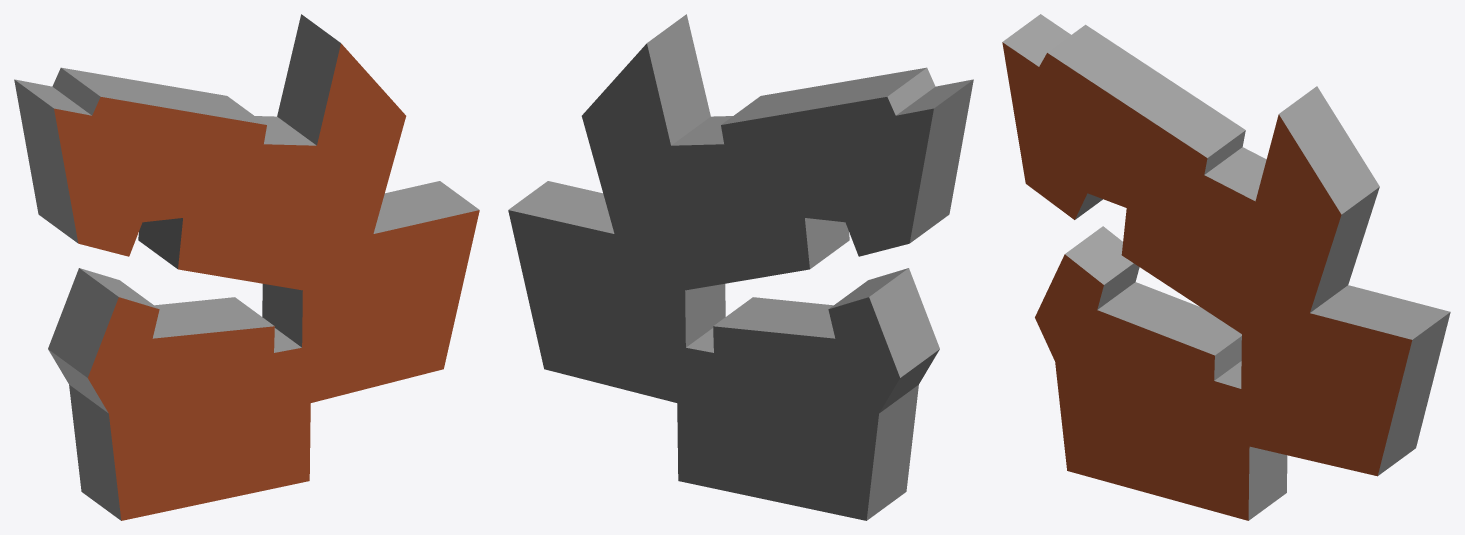
Rendered from construction_5321_assumed_A_Casa_h6m.obj.
The picture shows the model from 3 angles, left to right: view 1: azimuth 30°, elevation 25°; view 2: azimuth 150°, elevation 25°; view 3: azimuth 330°, elevation 25°; orthographic projection. The views are drawn at different scales.
Parts seen in each view (by area): view 1: construction_5321_assumed_A_Casa; view 2: construction_5321_assumed_A_Casa; view 3: construction_5321_assumed_A_Casa.
Boxes of the visible parts, box(x1,y1,x2,y2) form: construction_5321_assumed_A_Casa: box(14, 14, 479, 520); construction_5321_assumed_A_Casa: box(508, 14, 973, 520); construction_5321_assumed_A_Casa: box(1002, 14, 1450, 520).
Size of the model in its own units: 37.03 by 36.17 by 6.
